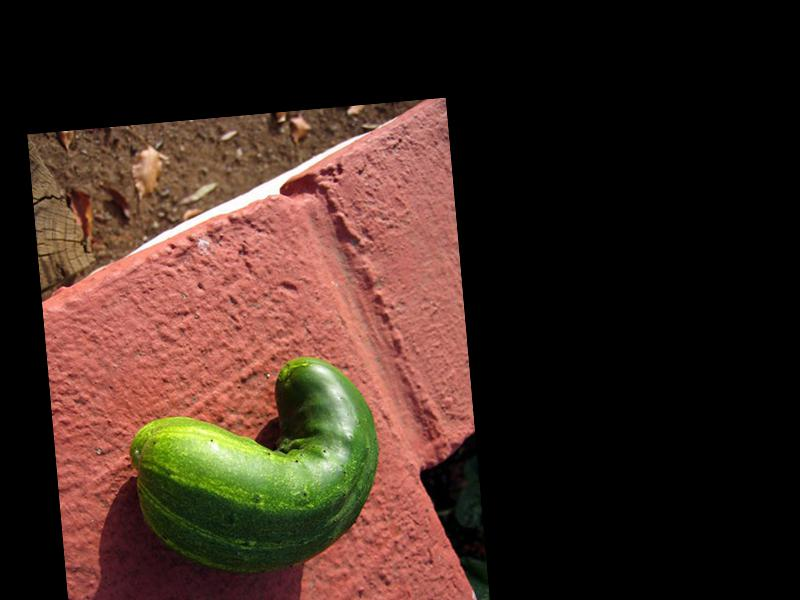Cucumber: (124, 349, 388, 581)
